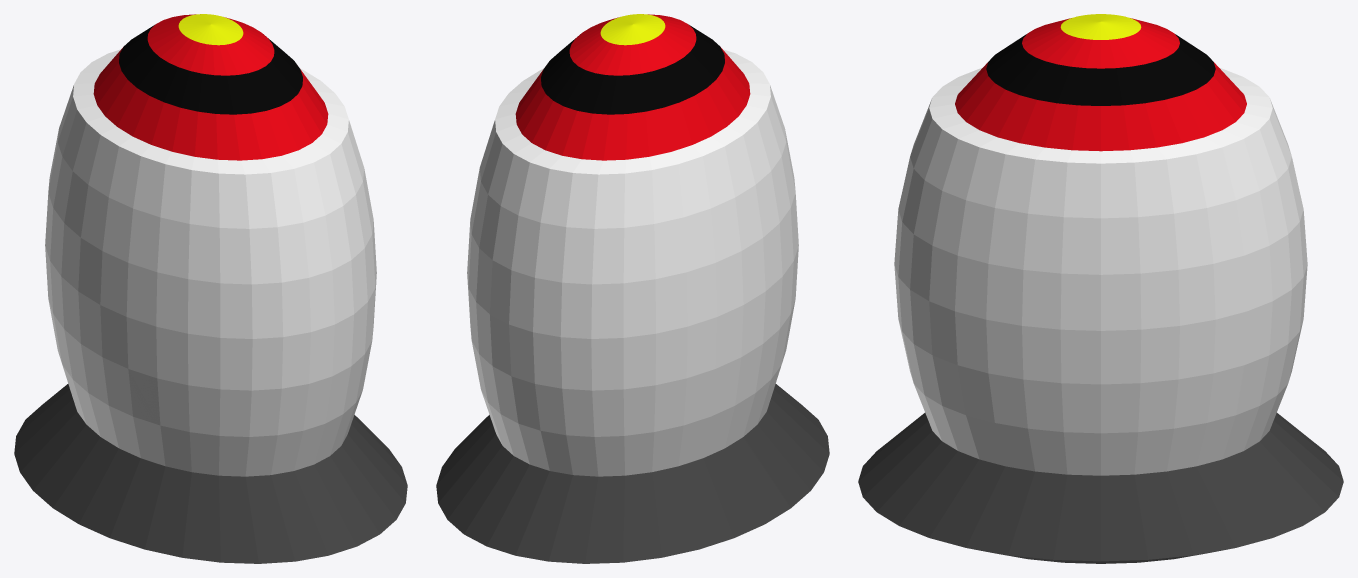
The model's file is Homing_Missile_Capsule.fbx.
The picture shows the model from 3 angles, left to right: view 1: azimuth 30°, elevation 25°; view 2: azimuth 150°, elevation 25°; view 3: azimuth 270°, elevation 25°; orthographic projection. The views are drawn at different scales.
Parts seen in each view (by area): view 1: Sphere; view 2: Sphere; view 3: Sphere.
Part boxes in pixels (x1,y1,x2,y2): Sphere: (14,14,407,563); Sphere: (436,14,829,563); Sphere: (858,14,1343,563).
Bounding box in the file's own units: 267 × 395 × 343.
